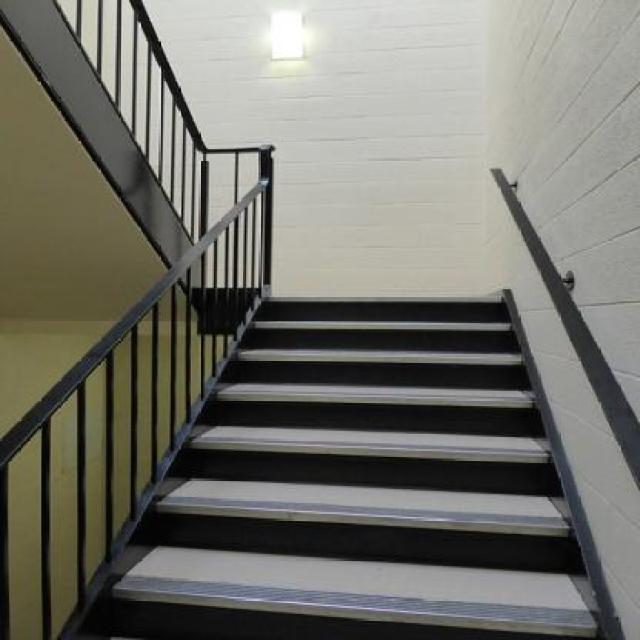stair: (74, 138, 528, 640)
